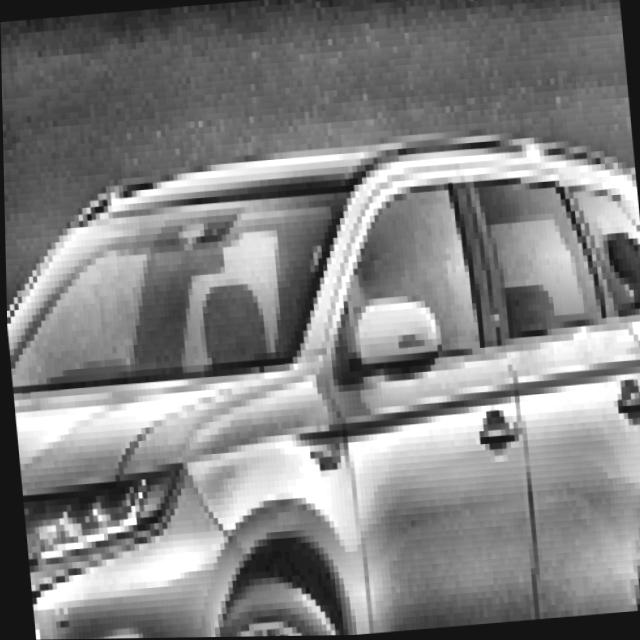light_vehicle: (2, 118, 640, 640)
